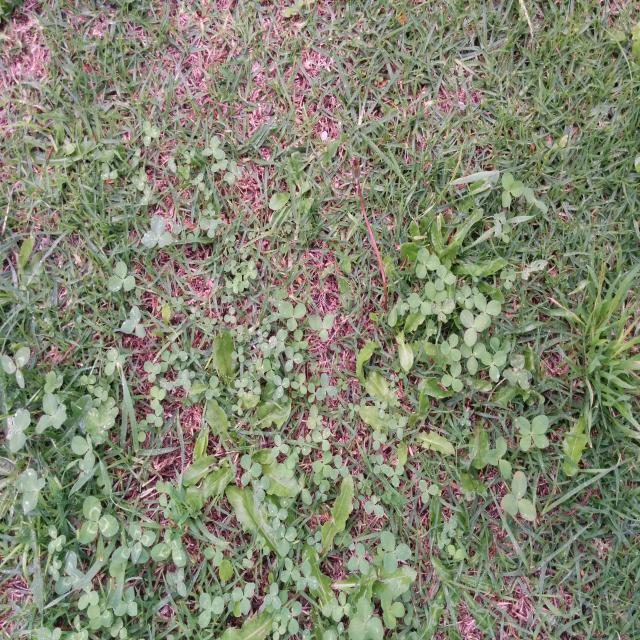Four Leaf Clover: (515, 415, 549, 451)
